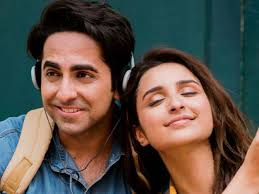Bad: (1, 1, 253, 194)
